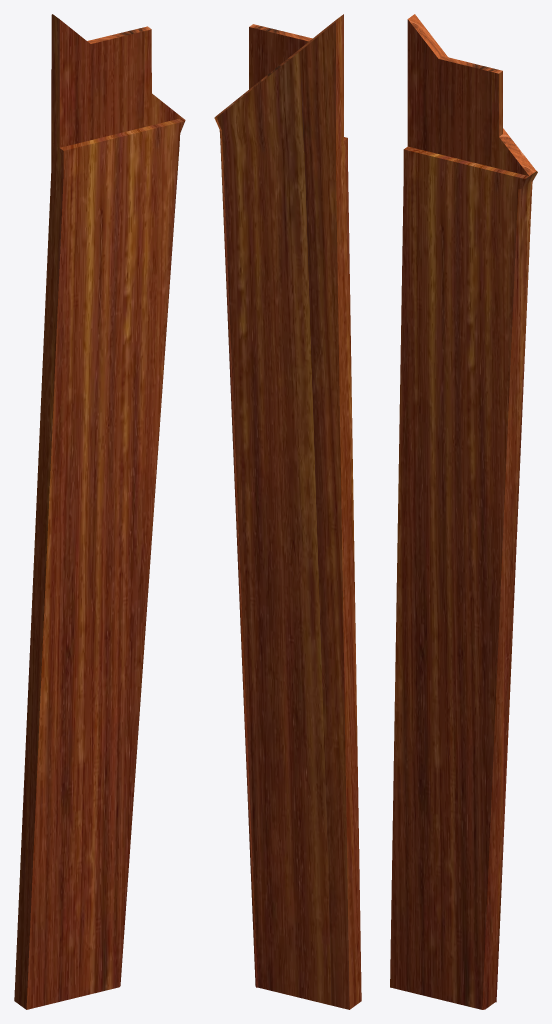
The model's file is GMY_J_humence_02.FBX.
3 views of the same model, side by side, from view 1: azimuth 30°, elevation 25°; view 2: azimuth 150°, elevation 25°; view 3: azimuth 330°, elevation 25° (orthographic).
Parts seen in each view (by area): view 1: GMY_J_humence_02; view 2: GMY_J_humence_02; view 3: GMY_J_humence_02.
Part boxes in pixels (<box>): GMY_J_humence_02: <box>14,14,185,1009</box>; GMY_J_humence_02: <box>214,14,361,1009</box>; GMY_J_humence_02: <box>390,14,537,1009</box>.
Bounding box in the file's own units: 6.56 × 41.55 × 1.85.
